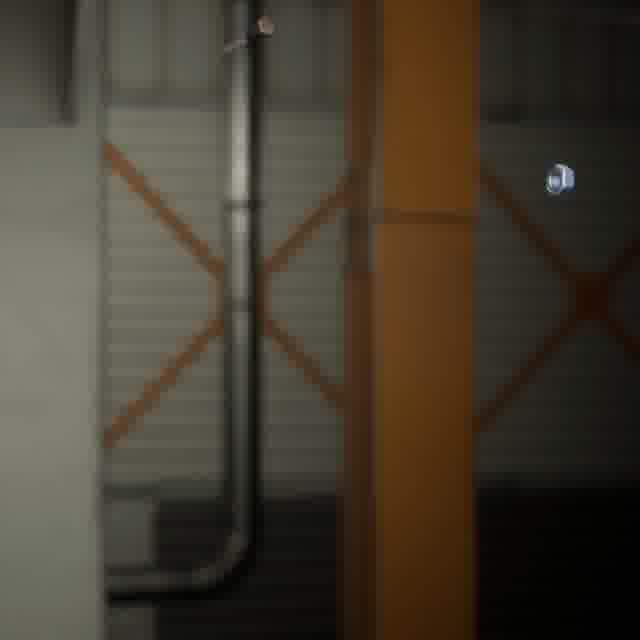bolt: (217, 11, 280, 59)
nut: (541, 159, 578, 201)
